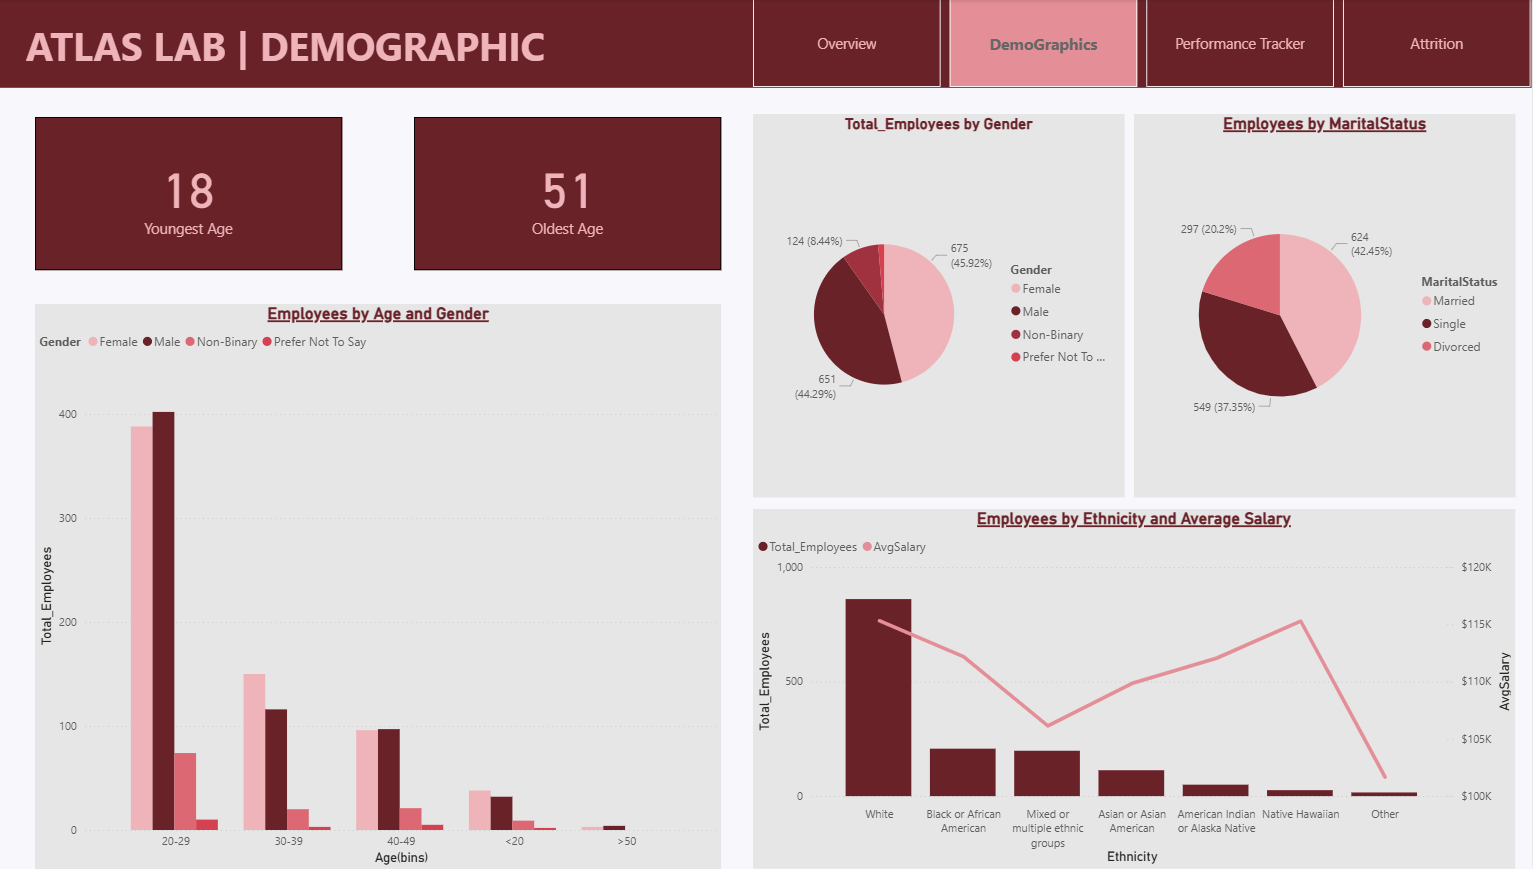

What the dashboard file says about the page in this screenshot:
{"tool":"powerbi","page":{"name":"DemoGraphics","canvas":[1690,960],"ordinal":1},"visuals":[{"type":"card","fields":{"Values":["Min(Dim_Employee.Age)"]},"box":[38.2,130,338.7,169.4],"z":0},{"type":"card","fields":{"Values":["Max(Dim_Employee.Age)"]},"box":[456.8,130,338.7,169.4],"z":1000},{"type":"clusteredColumnChart","title":"Employees by Age and Gender","fields":{"Series":["Dim_Employee.Gender"],"Y":["_Measures.Total_Employees"],"Category":["Dim_Employee.Age(binss)"]},"box":[38.2,336.3,757.3,623.8],"z":2000},{"type":"pieChart","title":"Employees by MaritalStatus","fields":{"Category":["Dim_Employee.MaritalStatus"],"Y":["_Measures.Total_Employees"]},"box":[1251.1,126.4,421,423.4],"z":3000},{"type":"lineStackedColumnComboChart","title":"Employees by Ethnicity and Average Salary","fields":{"Category":["Dim_Employee.Ethnicity"],"Y":["_Measures.Total_Employees"],"Y2":["_Measures.AvgSalary"]},"box":[831.3,562.9,840.8,397.2],"z":4000},{"type":"pieChart","fields":{"Category":["Dim_Employee.Gender"],"Y":["_Measures.Total_Employees"]},"box":[831.3,126.4,410.3,423.4],"z":5000},{"type":"textbox","box":[0,0,1690,97.8],"z":6000},{"type":"pageNavigator","box":[830.8,0,859.2,97.4],"z":6001}]}

Visuals, with their boxes in screenshot pixels (x1, y1, x2, y2), scaled from the page's 1690x960 canvas onto the 1533x869 screenshot:
card - Min(Dim_Employee.Age): crop(35, 118, 342, 271)
card - Max(Dim_Employee.Age): crop(414, 118, 722, 271)
"Employees by Age and Gender" clusteredColumnChart: crop(35, 304, 722, 868)
"Employees by MaritalStatus" pieChart: crop(1135, 114, 1517, 498)
"Employees by Ethnicity and Average Salary" lineStackedColumnComboChart: crop(754, 510, 1517, 868)
pieChart - Dim_Employee.Gender x _Measures.Total_Employees: crop(754, 114, 1126, 498)
textbox: crop(0, 0, 1532, 89)
pageNavigator: crop(754, 0, 1532, 88)
